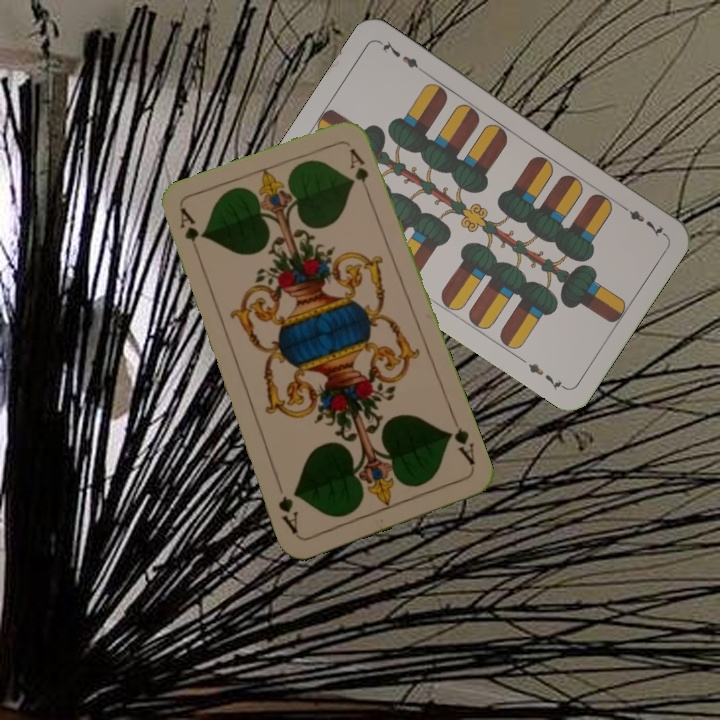E7: (615, 200, 668, 239)
GA: (175, 205, 204, 263), (442, 424, 478, 468)
